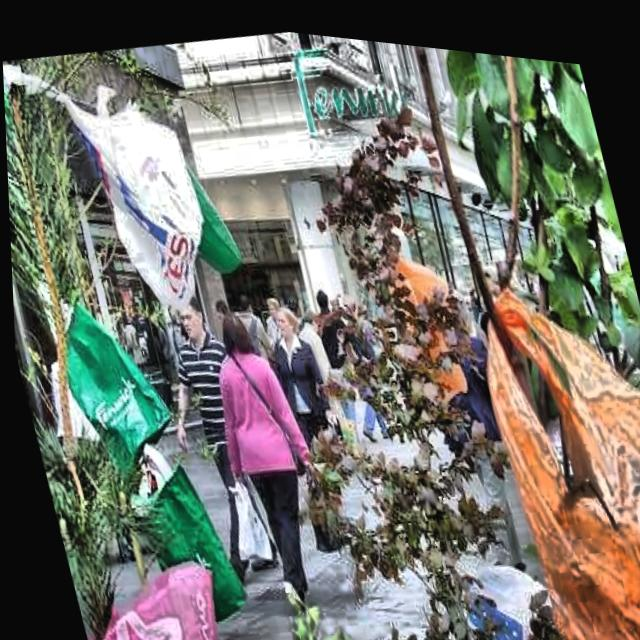Plastic: (443, 226, 640, 640), (28, 40, 245, 342), (39, 285, 191, 491)
